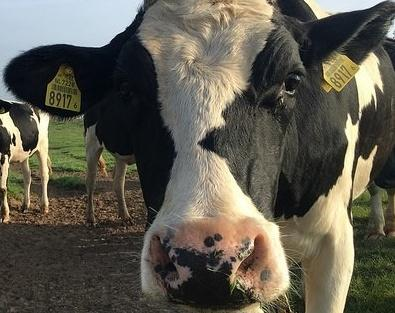muzzles: (136, 219, 290, 311)
